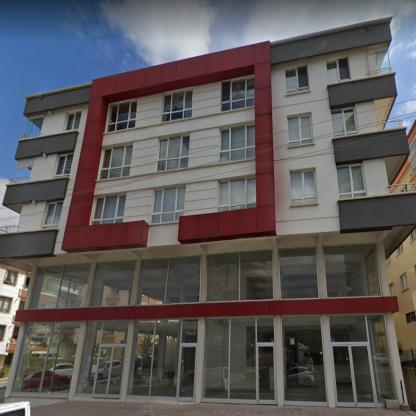door: (330, 343, 378, 407), (93, 346, 127, 398), (257, 344, 278, 404), (176, 344, 198, 401)
window: (201, 316, 275, 404), (328, 313, 396, 407), (127, 318, 199, 401), (11, 321, 80, 396), (280, 316, 328, 406), (74, 320, 130, 397), (206, 249, 274, 302), (135, 254, 202, 305), (323, 244, 382, 298), (28, 262, 92, 308), (89, 259, 136, 306), (279, 246, 320, 299), (150, 184, 186, 224), (219, 123, 254, 164), (218, 175, 256, 212), (156, 132, 191, 172), (99, 141, 133, 180), (221, 75, 254, 113), (90, 192, 127, 225), (161, 88, 194, 123), (337, 162, 367, 198), (107, 99, 137, 133), (287, 111, 315, 147), (290, 169, 317, 204), (331, 105, 360, 136), (286, 64, 310, 94), (326, 56, 351, 84), (42, 201, 63, 229), (54, 153, 73, 177), (376, 50, 390, 75), (66, 111, 82, 130), (4, 268, 18, 286), (0, 296, 13, 313), (400, 272, 408, 291), (406, 311, 415, 323), (0, 325, 6, 341), (397, 244, 403, 256), (410, 230, 416, 242), (389, 282, 394, 295), (386, 258, 390, 266)
